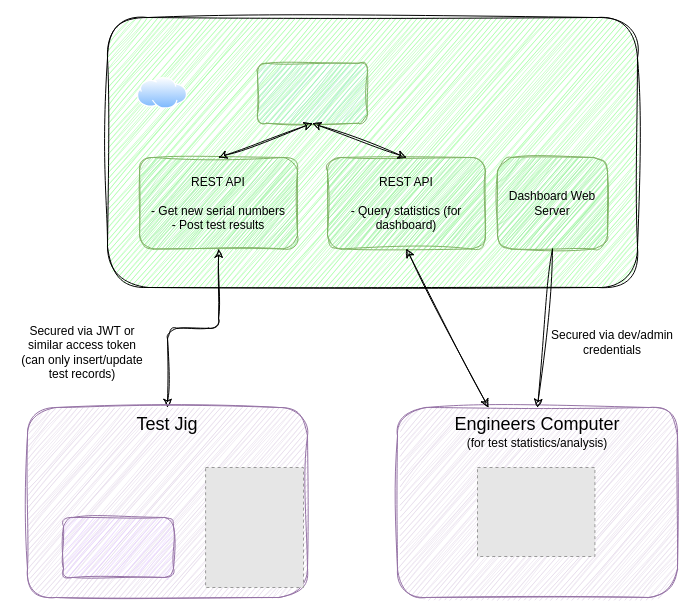
This 695x615 diagram has some shape labels left out. Grey dashed boxes stand in for pictures. The shapes that lost their labels are listed below. From the top down, each one's box as (x1, y1, x2, y2) in pixels, then its label:
(256, 62, 368, 123): Database
(106, 16, 638, 288): Testing Server
(62, 516, 174, 578): Embedded Linux Computer (or similar)
